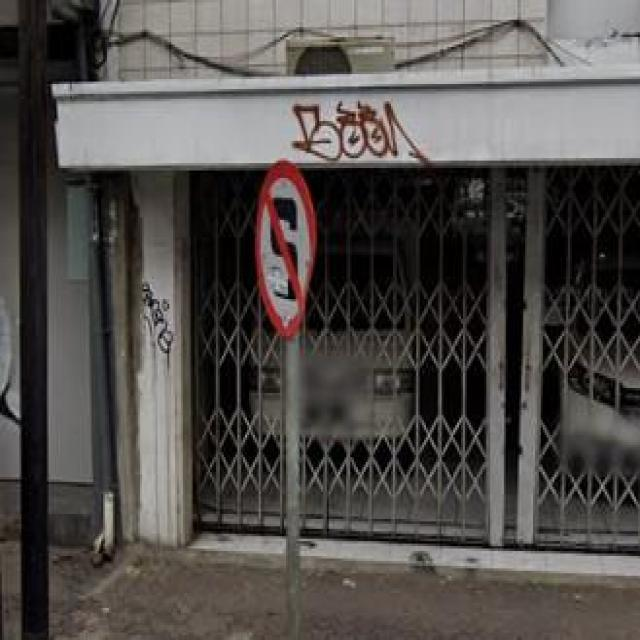traffic sign: (257, 158, 314, 336)
